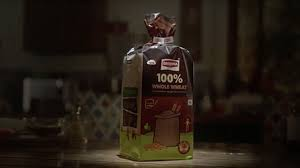bread: (122, 23, 199, 159)
